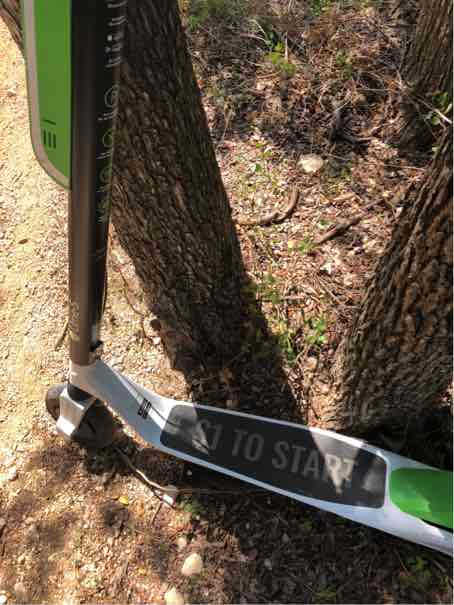scooter: (7, 13, 447, 604)
